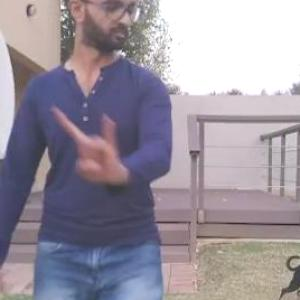takeoff-hand: (45, 101, 123, 189)
